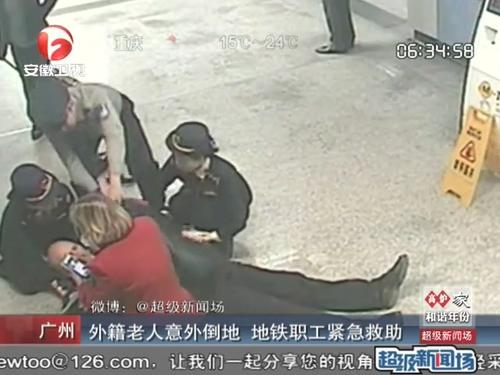fall: (29, 232, 417, 337)
